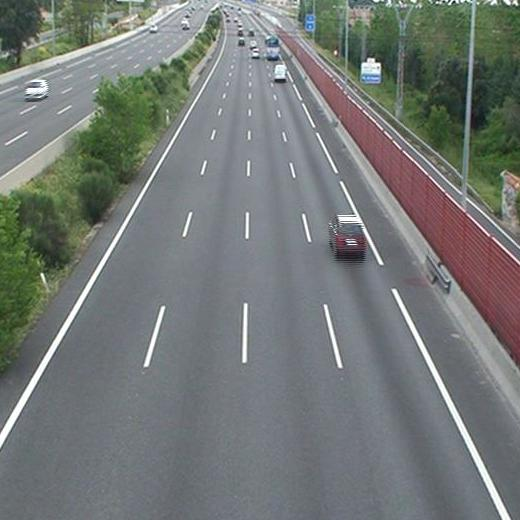bus: (267, 37, 279, 60)
car: (329, 216, 365, 253), (252, 48, 260, 57), (250, 40, 258, 48), (237, 37, 245, 45)
van: (274, 64, 287, 81)
